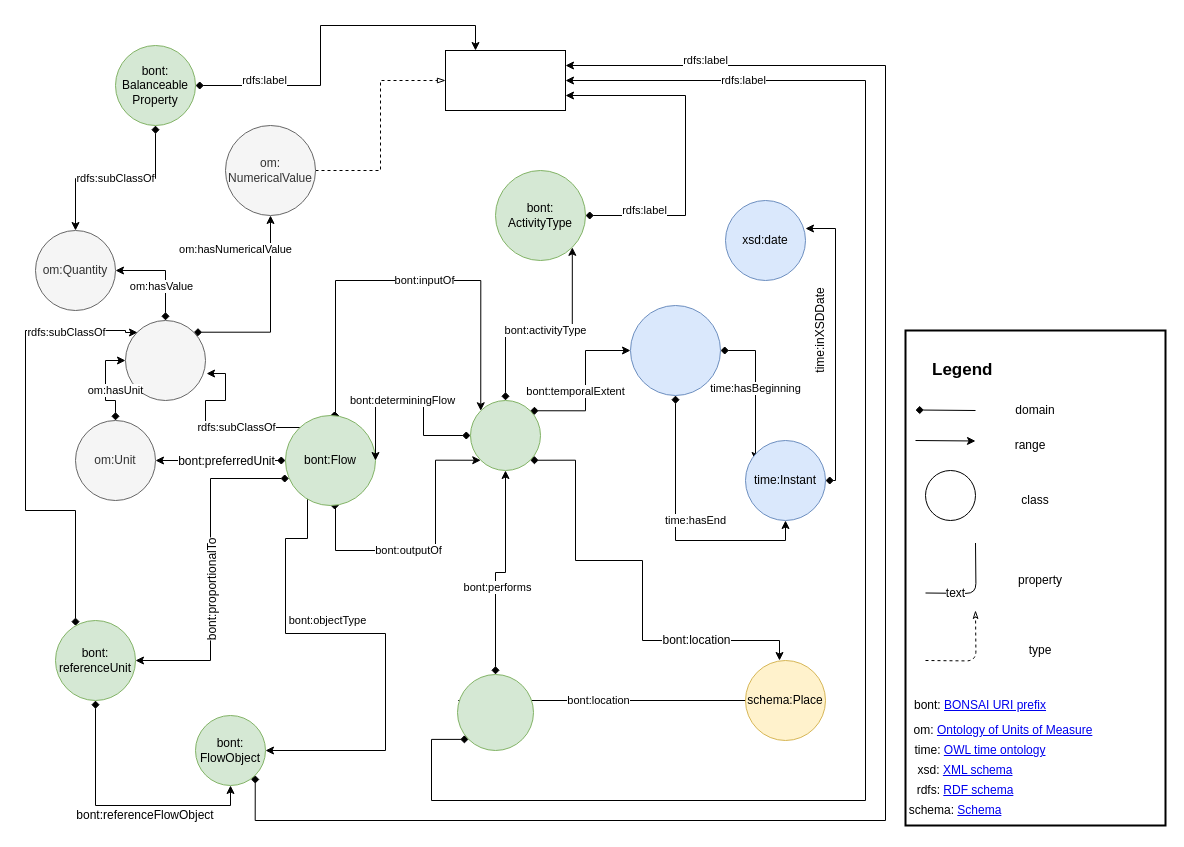
Some shapes in this 1184 by 847 pixel diagram are drawn without their labels. The shapes that lost their labels are listed below. From the top down, each one's centre as x and y in pixels, then its label:
At point 505,80: "Literal".
At point 165,360: "om:Measure".
At point 675,350: "time: ProperInterval".
At point 505,435: "bont:Activity".
At point 495,712: "bont:Agent".
